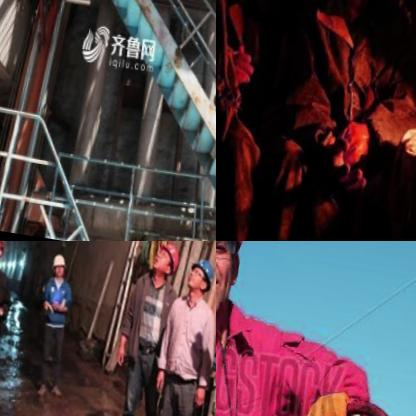helmet: (216, 241, 264, 334), (181, 253, 216, 300), (146, 241, 183, 280), (45, 248, 68, 278)
